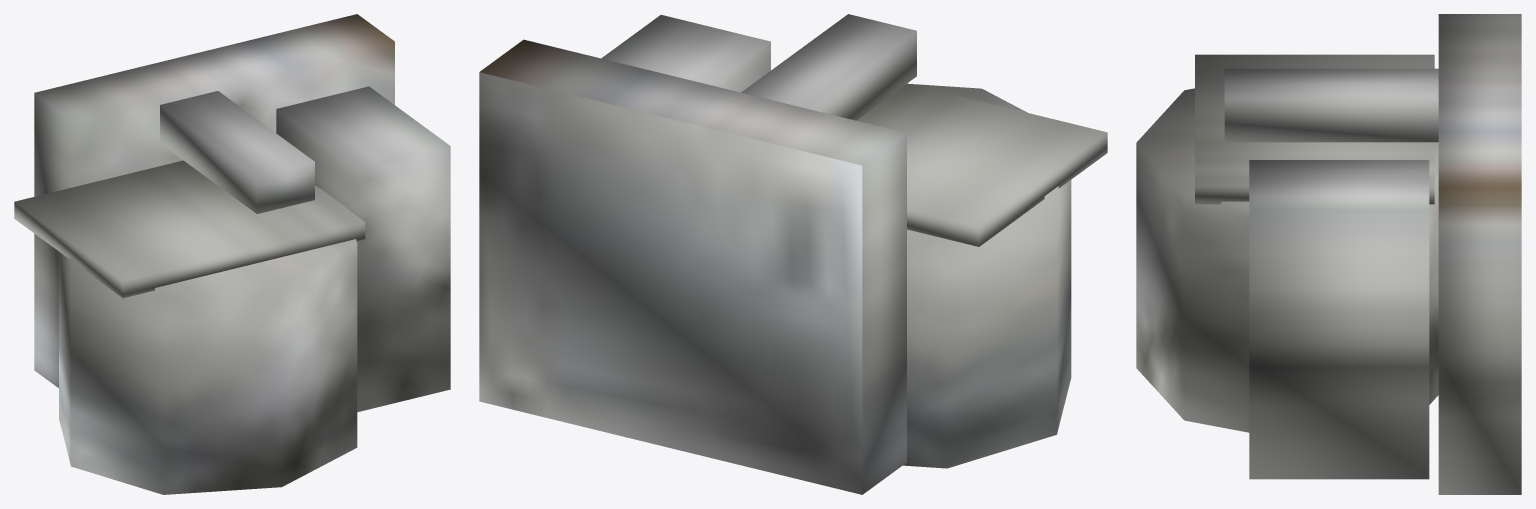
The model's file is wrist_yaw.dae.
The picture shows the model from 3 angles, left to right: view 1: azimuth 30°, elevation 25°; view 2: azimuth 150°, elevation 25°; view 3: azimuth 270°, elevation 25°; orthographic projection. The views are drawn at different scales.
Visible parts, largest first — view 1: 29 DEXTRE.008; view 2: 29 DEXTRE.008; view 3: 29 DEXTRE.008.
Part boxes in pixels (box(x1,y1,x2,y2)): 29 DEXTRE.008: box(14, 14, 450, 494); 29 DEXTRE.008: box(479, 14, 1107, 494); 29 DEXTRE.008: box(1136, 14, 1521, 494).
Size of the model in its own units: 0.4575 by 0.357 by 0.3219.
1 material, 1 textured.
